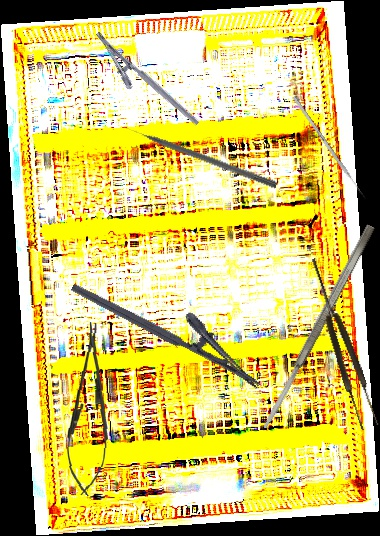Needle Holder: (70, 257, 275, 391), (83, 30, 200, 140), (64, 321, 115, 497)
Pusher: (122, 122, 279, 189), (292, 95, 367, 201)
Spatula Surgical: (259, 223, 377, 431)
Tissue Forceps: (304, 254, 380, 432)
